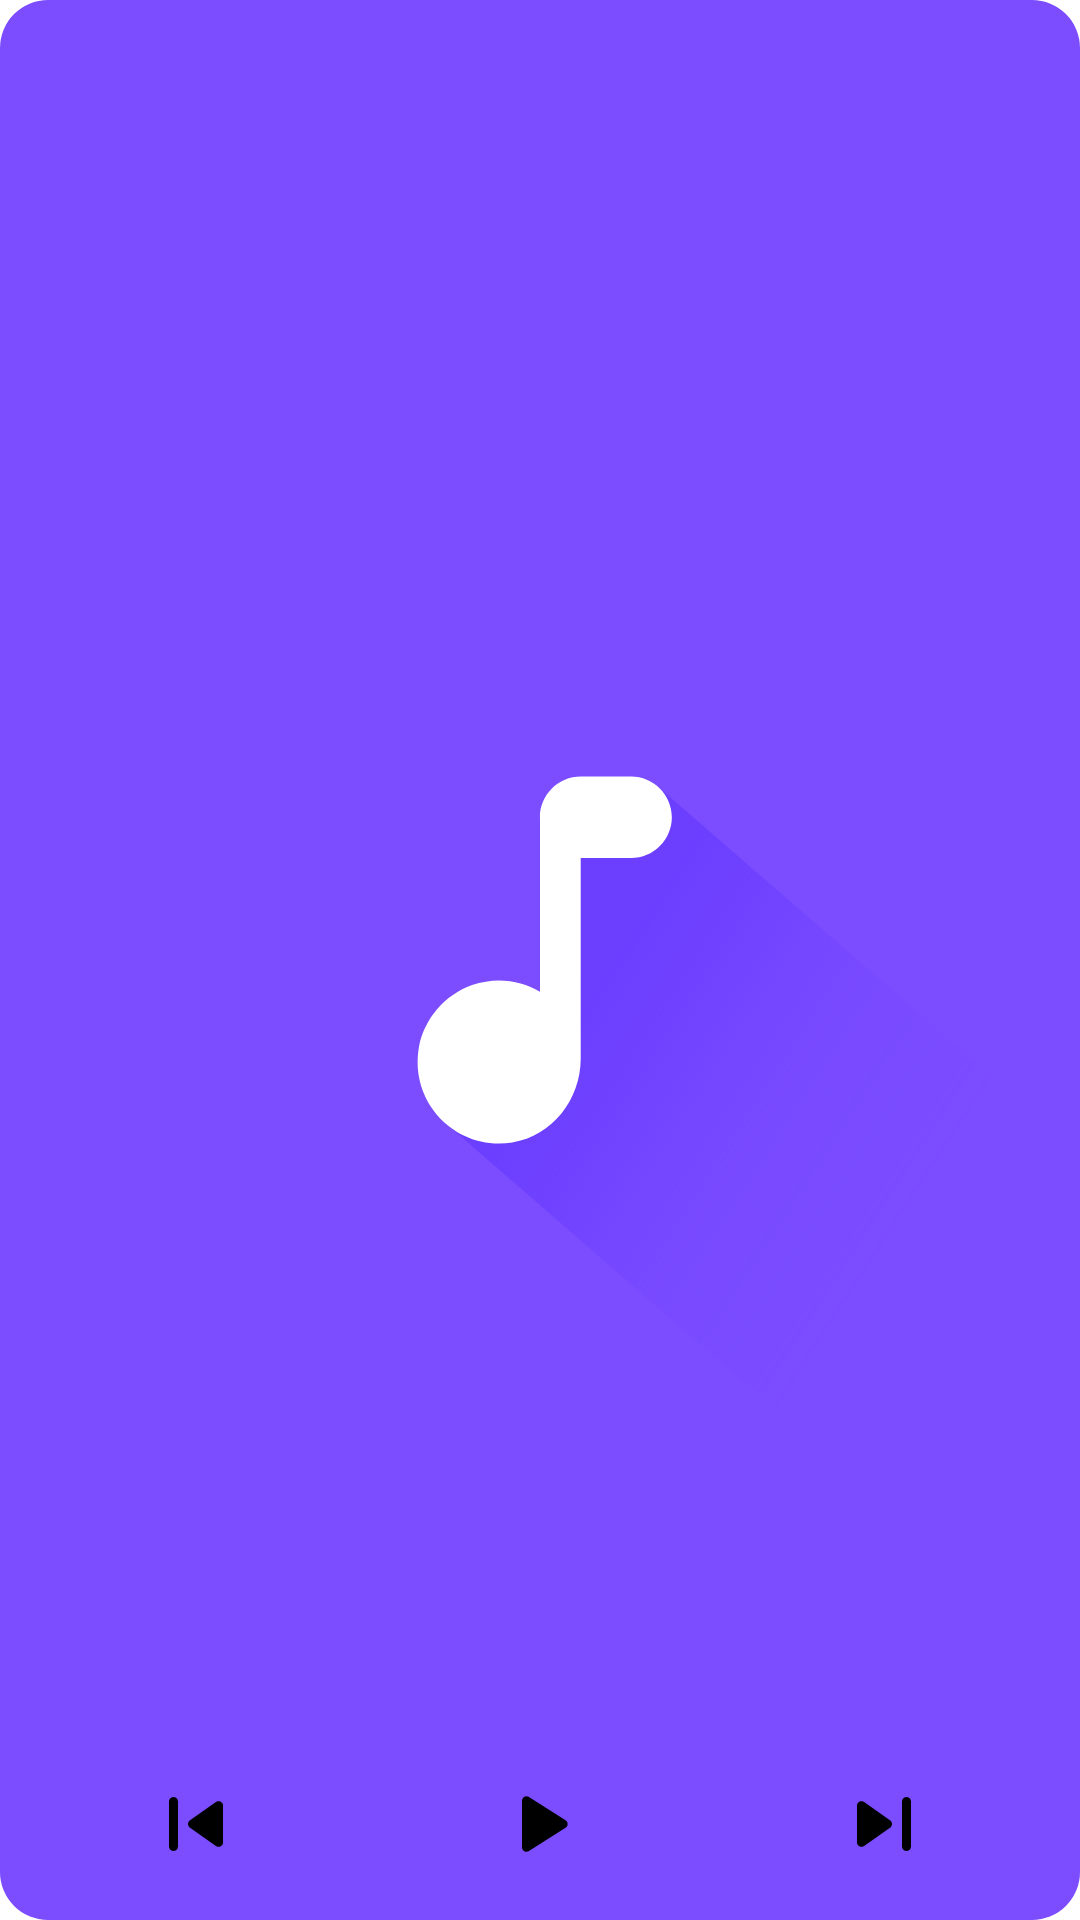

Where to tap for icons on this 1080 × 1920 app screen, as [x,y]:
Next track: [884,1824]
Play: [545,1824]
Previous track: [196,1824]
